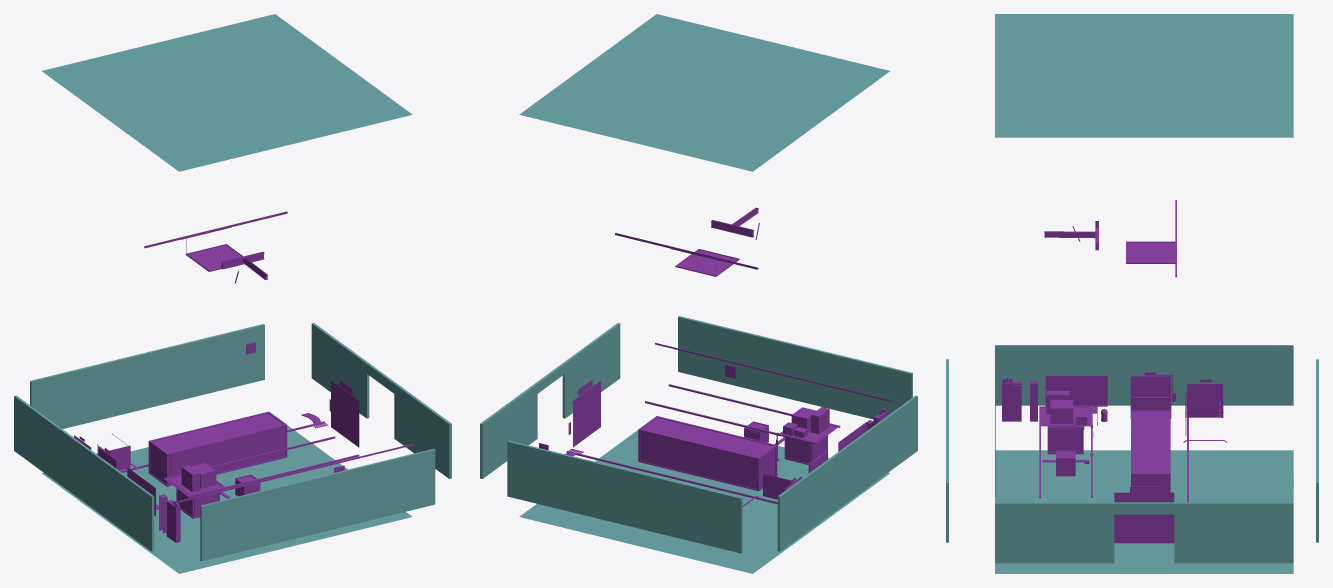
File: LV2- Almacen UVs.fbx
3 views of the same model, side by side, from view 1: azimuth 30°, elevation 25°; view 2: azimuth 150°, elevation 25°; view 3: azimuth 270°, elevation 25° (orthographic). The views are drawn at different scales.
Parts seen in each view (by area): view 1: PIPA8, PIPA3, PIPA4, PIPA2, PIPA1, sas42, PIPA7, PIPA5, sas74, sas2, sas49, sas8; view 2: PIPA8, PIPA4, PIPA3, PIPA1, PIPA2, sas42, PIPA5, PIPA7, sas74, sas2, sas49, sas9 (+1 smaller); view 3: PIPA8, PIPA1, PIPA2, PIPA5, PIPA7, sas42, sas74, sas57, sas27, sas51, sas2, sas49 (+6 smaller).
Part boxes in pixels (<box>): PIPA8: <box>42,14,412,171</box>; PIPA3: <box>200,448,435,561</box>; PIPA4: <box>30,324,264,428</box>; PIPA2: <box>14,395,154,551</box>; PIPA1: <box>42,425,412,573</box>; sas42: <box>148,411,287,486</box>; PIPA7: <box>394,383,451,478</box>; PIPA5: <box>311,323,369,418</box>; sas74: <box>331,381,359,447</box>; sas2: <box>185,244,242,271</box>; sas49: <box>176,488,219,518</box>; sas8: <box>177,443,413,502</box>; PIPA8: <box>519,14,889,171</box>; PIPA4: <box>507,440,742,553</box>; PIPA3: <box>678,316,912,419</box>; PIPA1: <box>519,430,889,573</box>; PIPA2: <box>777,395,917,551</box>; sas42: <box>638,416,777,491</box>; PIPA5: <box>480,383,537,478</box>; PIPA7: <box>562,323,620,418</box>; sas74: <box>573,381,600,447</box>; sas2: <box>675,249,739,276</box>; sas49: <box>784,435,827,464</box>; sas9: <box>566,451,777,503</box>; PIPA8: <box>995,14,1293,137</box>; PIPA1: <box>995,450,1293,573</box>; PIPA2: <box>995,345,1293,405</box>; PIPA5: <box>1174,502,1293,563</box>; PIPA7: <box>995,502,1114,563</box>; sas42: <box>1131,410,1170,492</box>; sas74: <box>1114,492,1174,543</box>; sas57: <box>1045,375,1107,406</box>; sas27: <box>1130,376,1171,418</box>; sas51: <box>1187,383,1223,417</box>; sas2: <box>1126,241,1175,263</box>; sas49: <box>1047,426,1083,454</box>.
Size of the model in its own units: 210 by 269 by 209.
